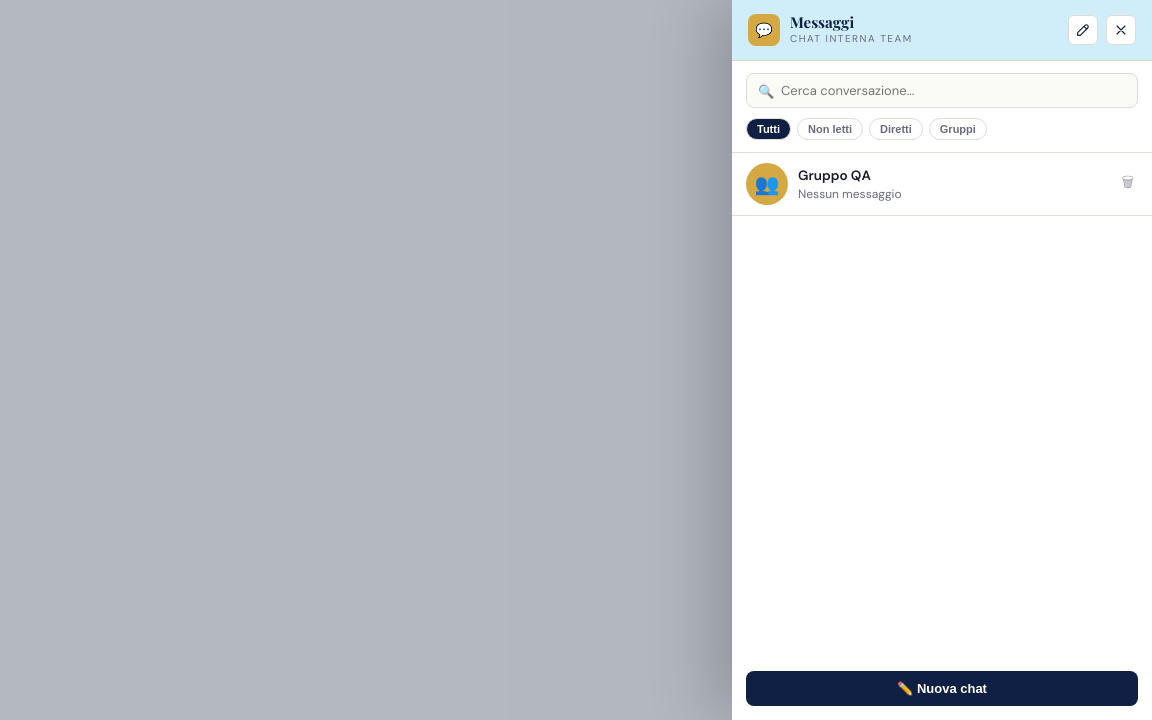
Test: eliminazione conversazioni/gruppi › lista: annullando la conferma non elimina nulla
Click the button titled "Elimina gruppo" at (1128,184), box [1117,166,1138,202]
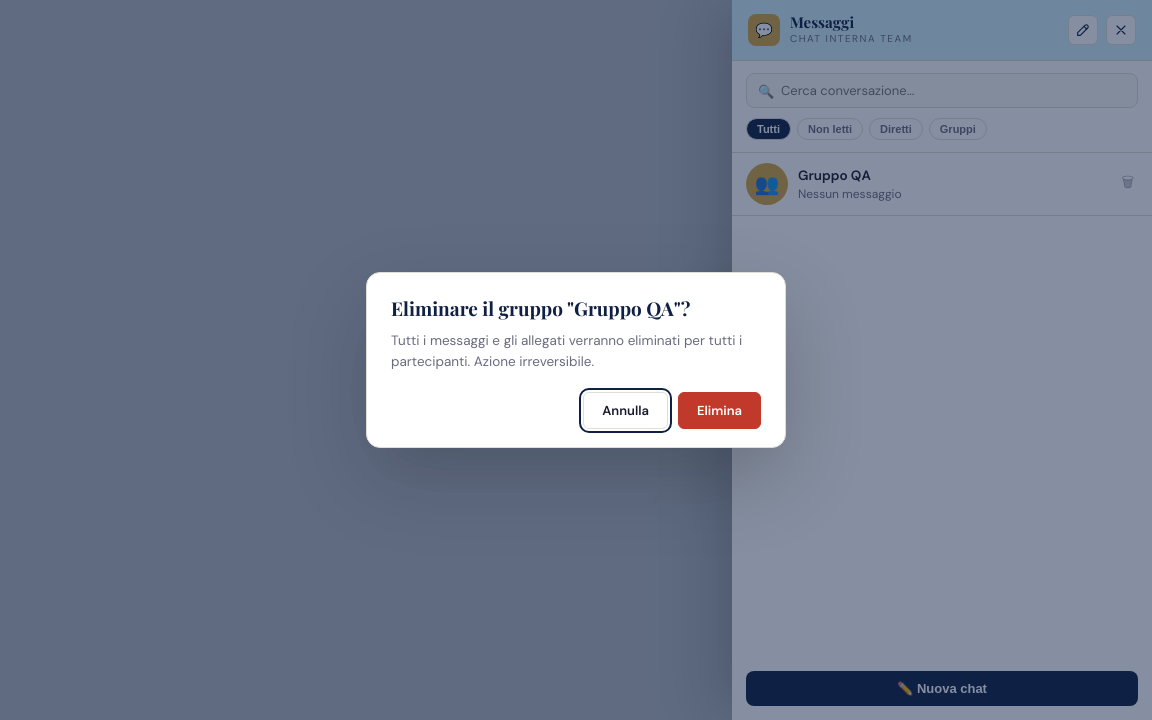
Click the button "Annulla" at (626,410), box [583,392,668,429]
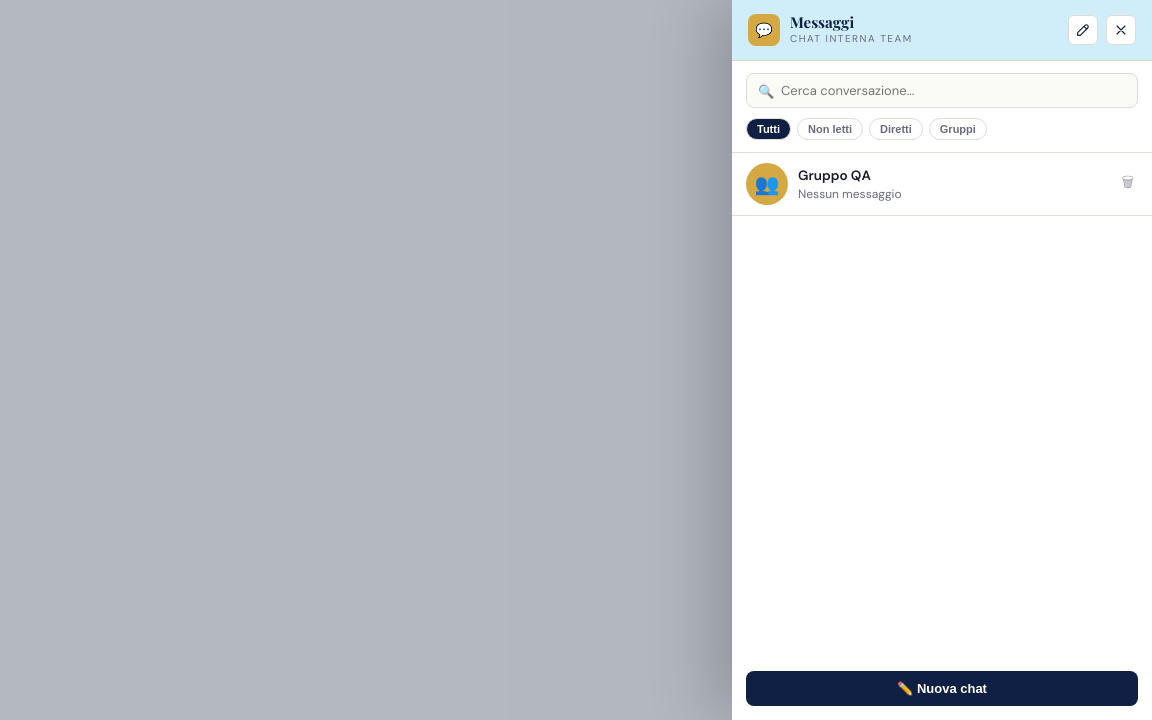
Expected: the dialog is gone
